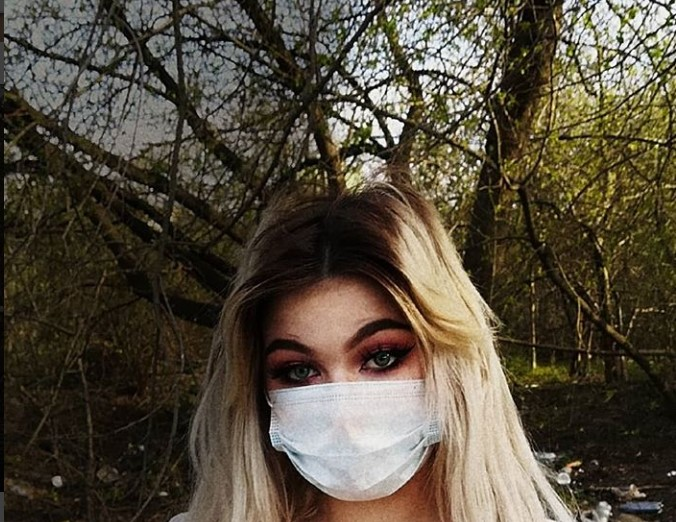face_with_mask: (233, 195, 476, 502)
